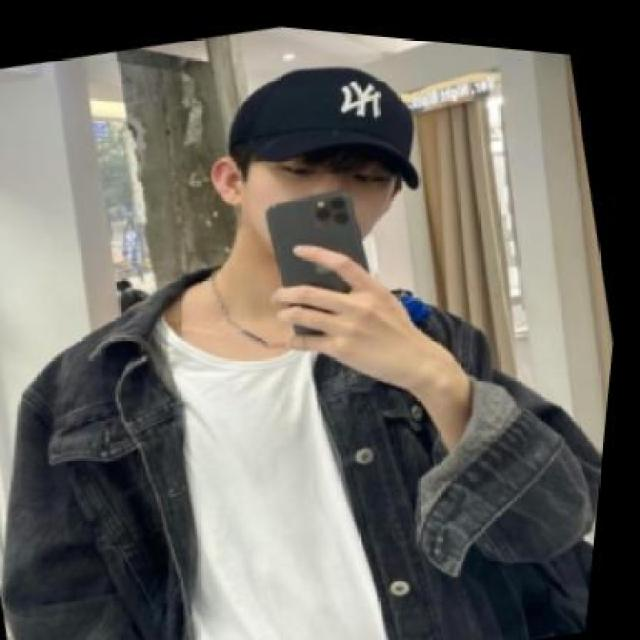hat: (207, 28, 436, 227)
